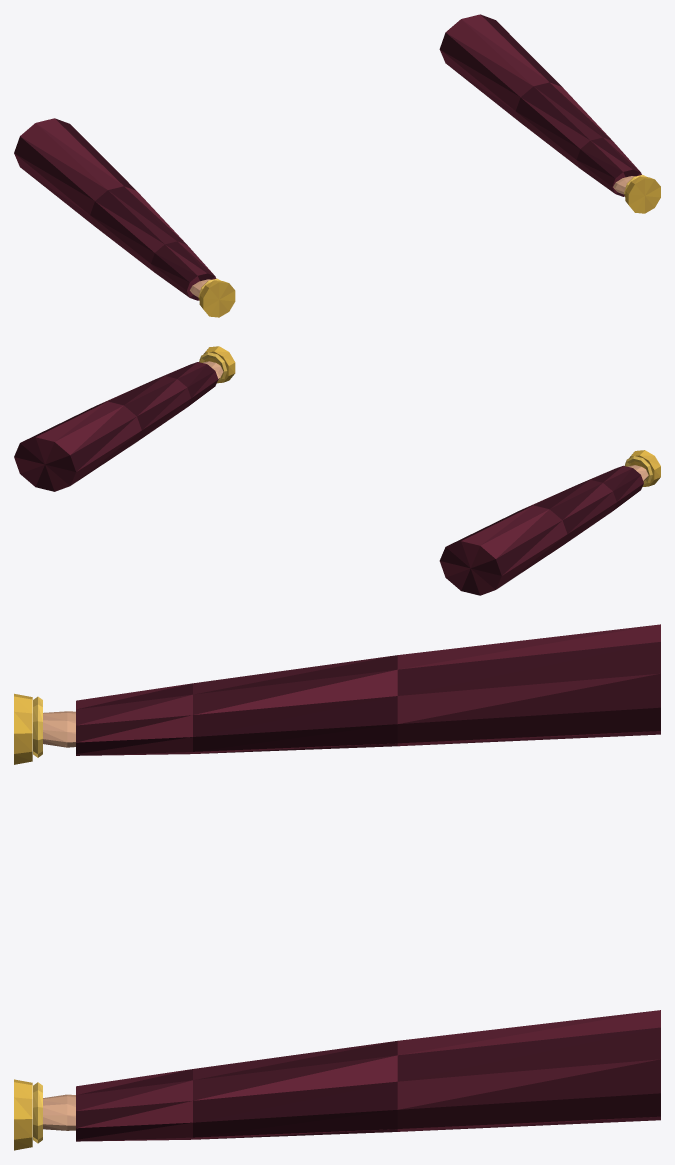
Rendered from player_hands.glb.
3 renders of one model, top to bottom at view 1: azimuth 30°, elevation 25°; view 2: azimuth 150°, elevation 25°; view 3: azimuth 270°, elevation 25°, orthographic. The views are drawn at different scales.
Visible parts, largest first — view 1: Wrist_L, Wrist_R; view 2: Wrist_R, Wrist_L; view 3: Wrist_L, Wrist_R.
Boxes of the visible parts, x1,y1,x2,y2 form: Wrist_L: (14, 118, 235, 317); Wrist_R: (439, 14, 660, 213); Wrist_R: (14, 346, 235, 491); Wrist_L: (439, 450, 660, 595); Wrist_L: (14, 624, 660, 764); Wrist_R: (14, 1010, 660, 1150).
Size of the model in its own units: 1.79 by 0.2435 by 1.11.
